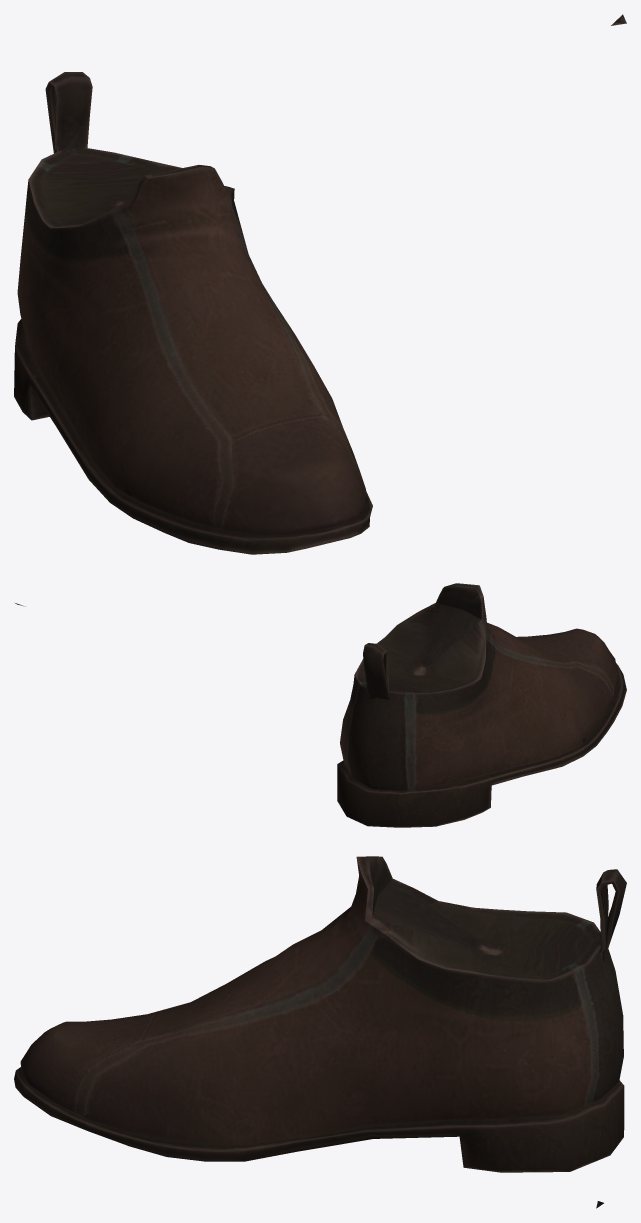
The model's file is profesor_pieder.glb.
The picture shows the model from 3 angles, top to bottom: view 1: azimuth 30°, elevation 25°; view 2: azimuth 150°, elevation 25°; view 3: azimuth 270°, elevation 25°; orthographic projection. The views are drawn at different scales.
Visible parts, largest first — view 1: Object_28; view 2: Object_28; view 3: Object_28.
Part boxes in pixels (box(x1,y1,x2,y2)): Object_28: box(14, 14, 626, 554); Object_28: box(15, 583, 626, 827); Object_28: box(14, 856, 626, 1208).
Bounding box in the file's own units: 0.1058 × 0.04 × 0.0839.
Materials: 1 (1 with a texture image).
